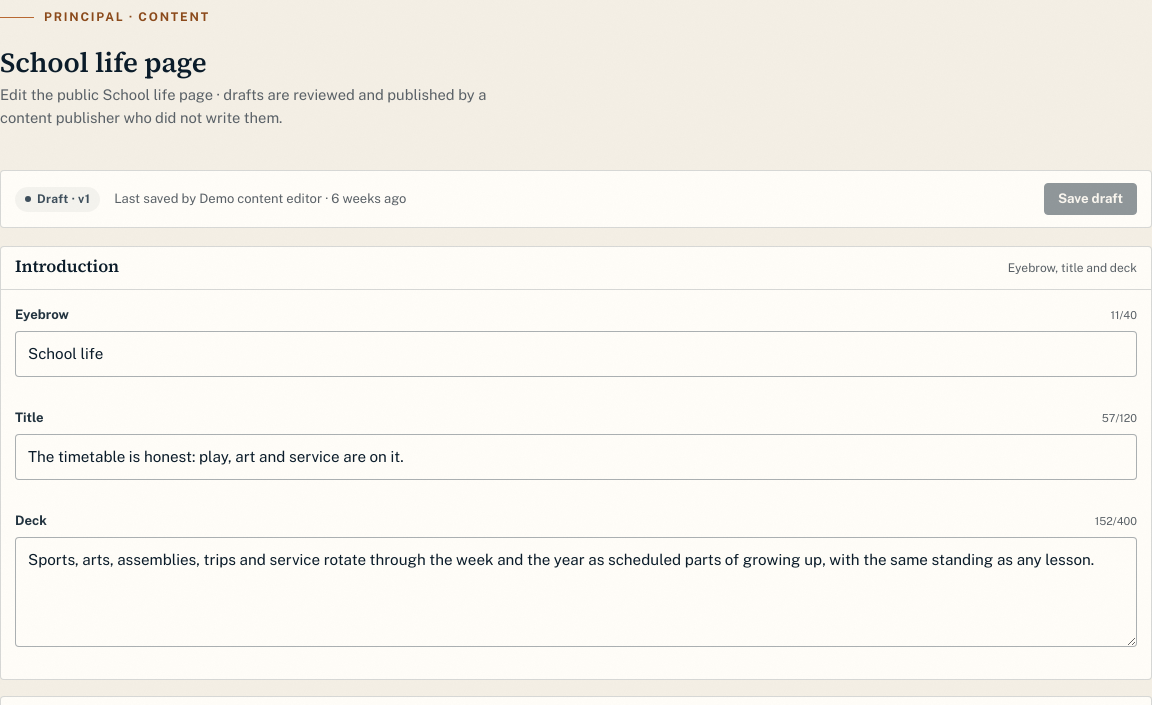
Test case: SchoolLifePageEditor › saves through savePageDraft with the school-life slug and structured body
Check: the heading "Introduction" is shown, box [15,257,119,276]
Replace the text in the text box labelled "Deck" with "A changed deck." at (576, 592), box [15,537,1137,647]
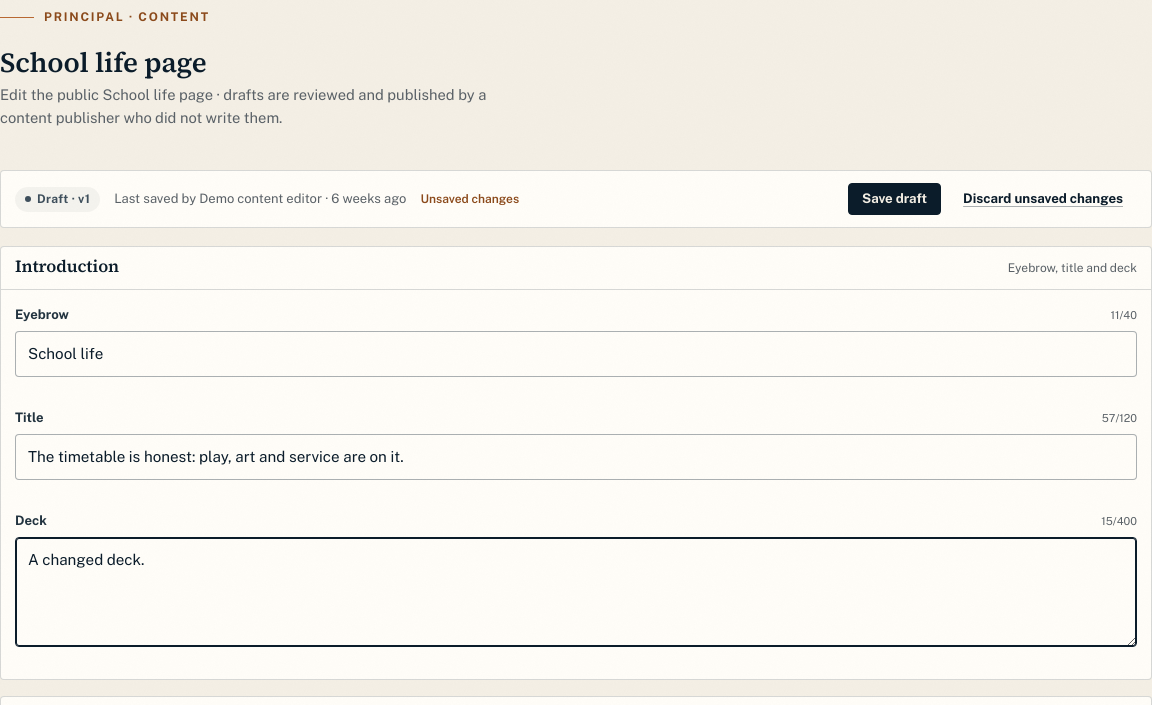
Click the button "Save draft" at (895, 199), box [848,184,941,215]
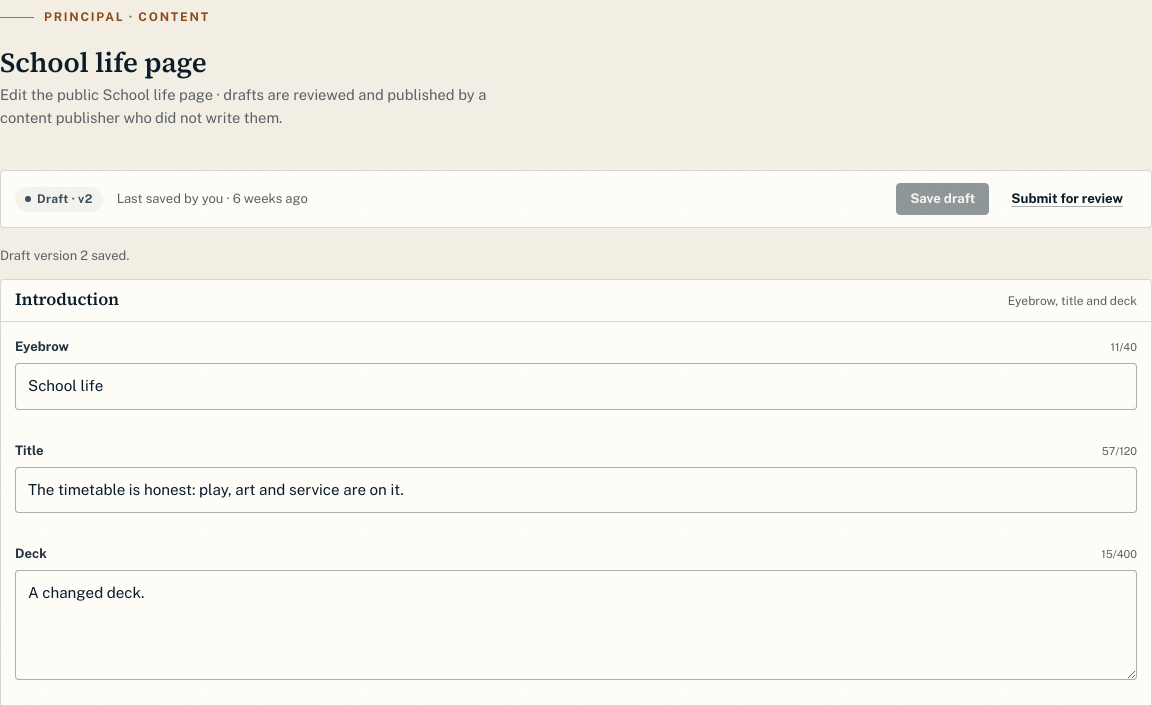
Check: the text "Draft version 2 saved." is shown, box [0,248,129,263]
Check: the text "Unsaved changes" is not shown
